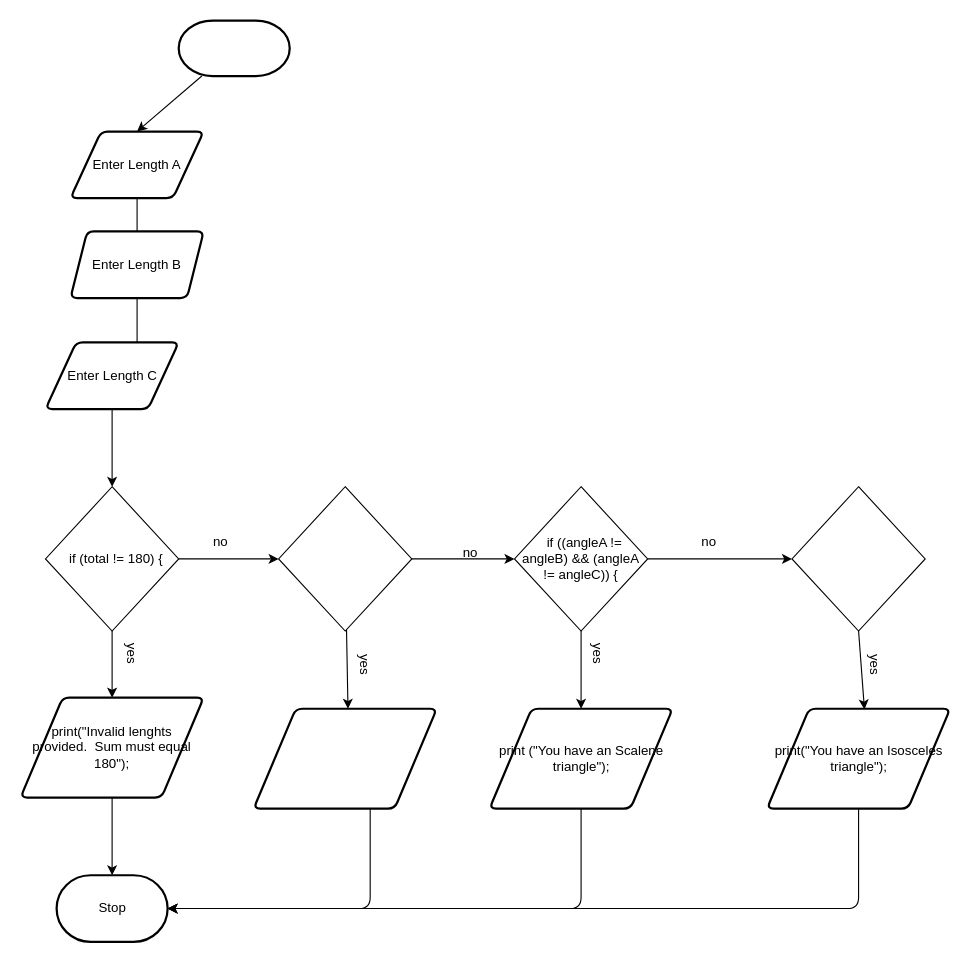
This 970x961 diagram has some shape labels left out. Here are the shapes that lost their labels. From the top down, the box of each, then its label:
(177, 19, 290, 77): Start
(278, 486, 412, 631): if ((angleA == angleB) && (angleA == angleC)) {
(791, 486, 925, 631): if ((angleA != angleB) && (angleA == angleC)) {
(252, 707, 437, 809): print("You have an equilateral triangle");
